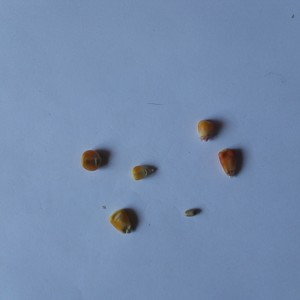maiz: (108, 204, 140, 236), (217, 146, 246, 180), (78, 147, 105, 173), (194, 117, 219, 142), (130, 161, 157, 183)
trigo: (183, 206, 203, 220)
